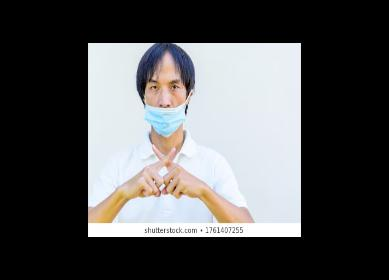mask_weared_incorrect: (145, 75, 187, 139)
